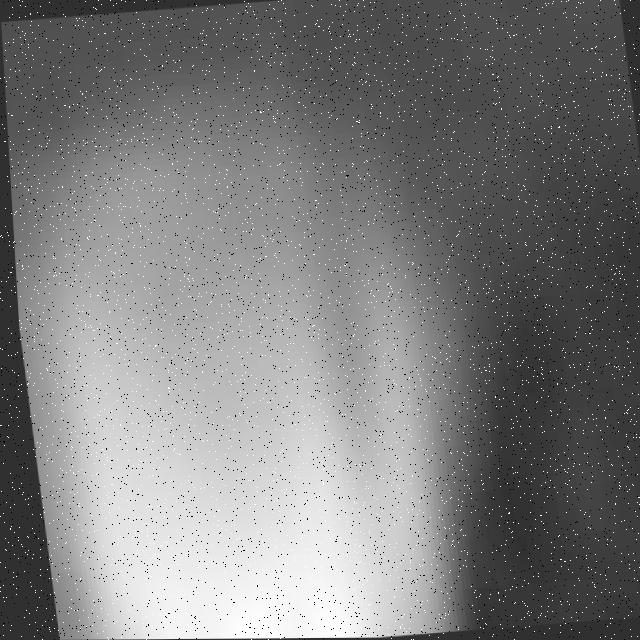person: (4, 67, 487, 640)
